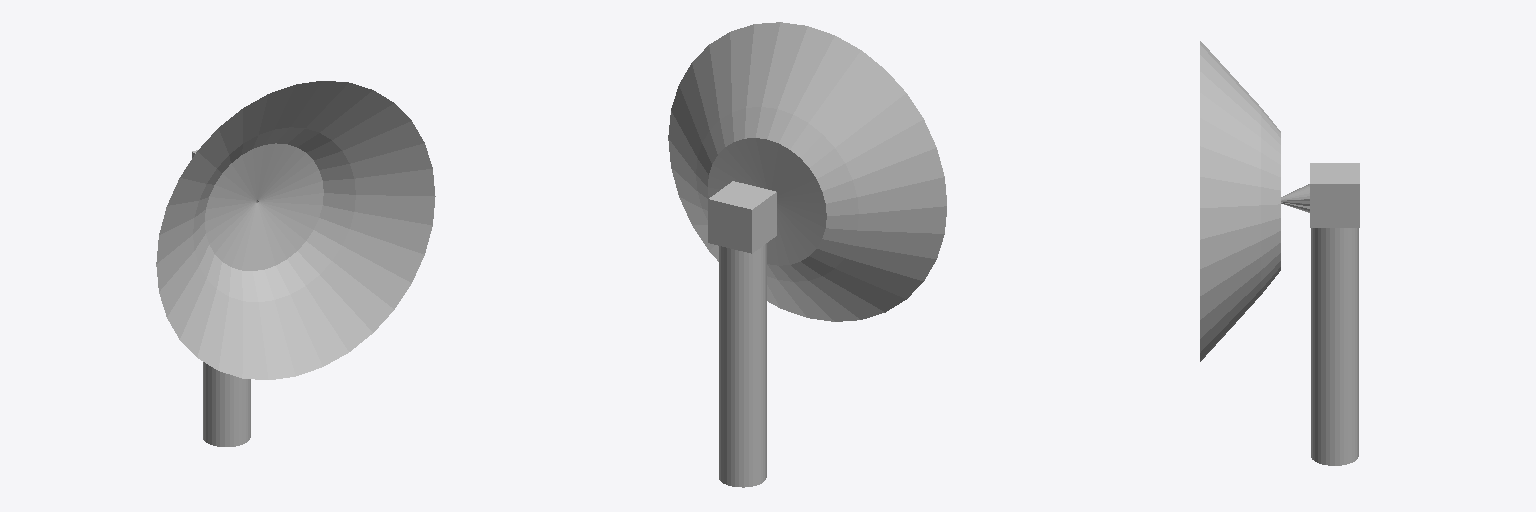
The model's file is satellite.obj.
The picture shows the model from 3 angles: view 1: azimuth 30°, elevation 25°; view 2: azimuth 150°, elevation 25°; view 3: azimuth 270°, elevation 25°; orthographic projection.
Size of the model in its own units: 4.71 by 6.47 by 2.33.